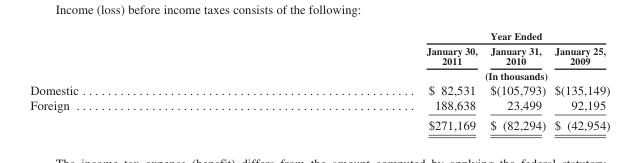table: (29, 29, 609, 132)
table column: (252, 29, 483, 132), (29, 29, 252, 132), (483, 29, 549, 132), (549, 29, 609, 132)
table column header: (29, 29, 609, 81)
table row: (29, 42, 609, 67), (29, 97, 609, 115), (29, 115, 609, 132), (29, 81, 609, 97), (29, 67, 609, 81), (29, 29, 609, 42)
table spanning cell: (252, 67, 609, 81), (252, 29, 609, 42)
